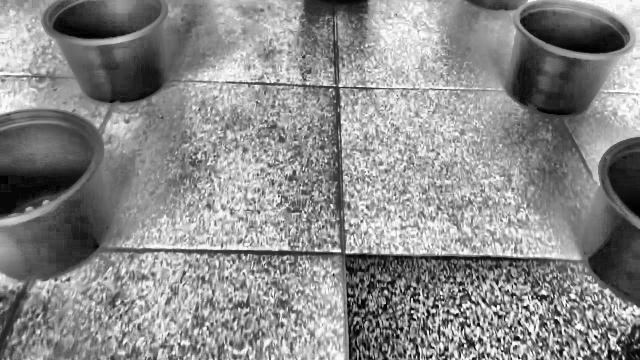pot: (0, 109, 112, 280), (506, 0, 638, 117), (42, 0, 169, 105)
